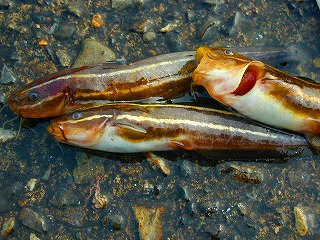gonzui: (52, 104, 312, 160), (196, 43, 320, 113)
